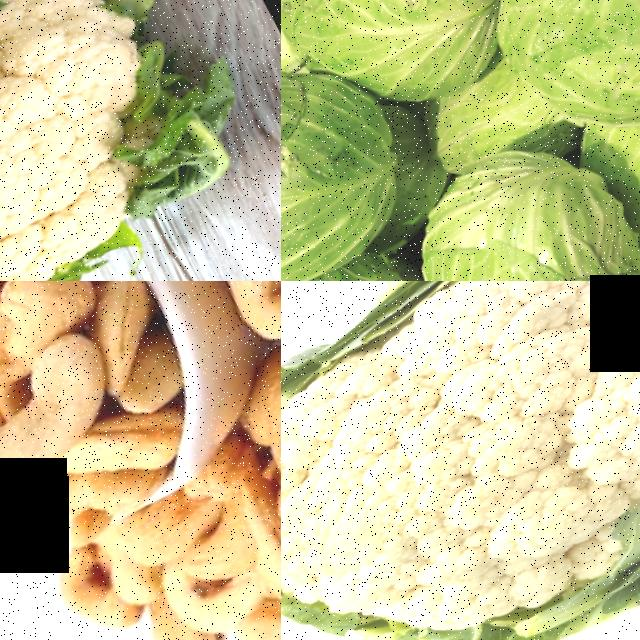cabbage: (365, 125, 640, 281), (281, 0, 522, 145), (281, 27, 417, 281), (455, 0, 640, 184)
cashew: (0, 342, 135, 519), (0, 281, 111, 407), (139, 557, 258, 640), (22, 550, 129, 640), (203, 281, 281, 360), (235, 517, 281, 640), (205, 604, 281, 640)
cauliflower: (281, 281, 640, 640), (0, 0, 281, 281)
